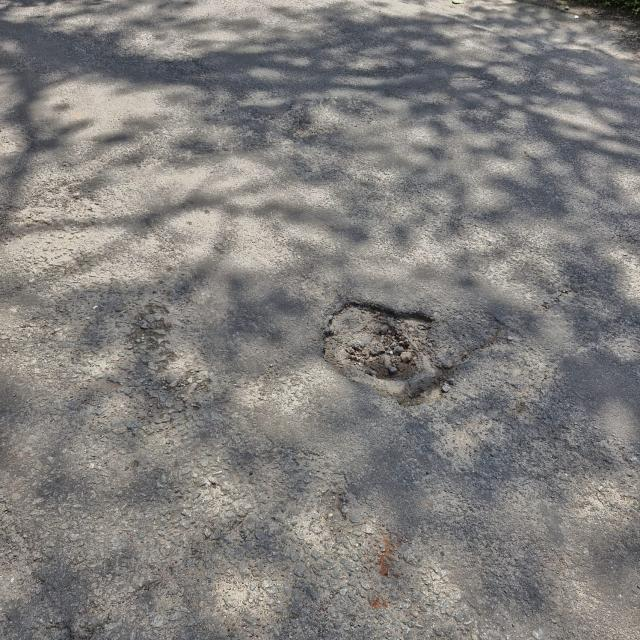pothole: (312, 292, 472, 427), (123, 298, 215, 414), (26, 609, 106, 640), (0, 534, 41, 594), (317, 484, 349, 532)
